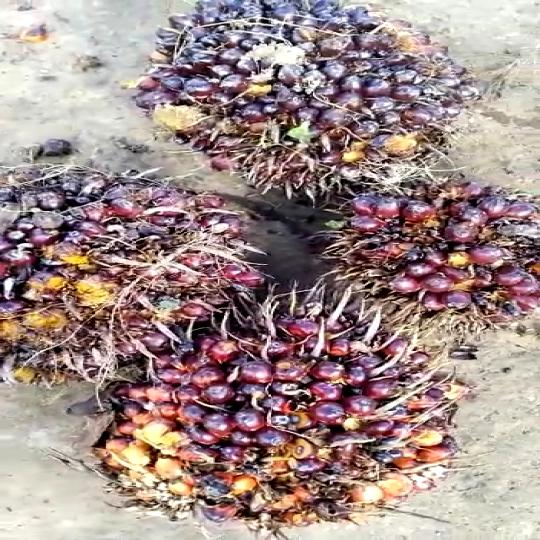masak: (81, 276, 461, 532), (114, 0, 492, 199), (0, 150, 288, 383)
